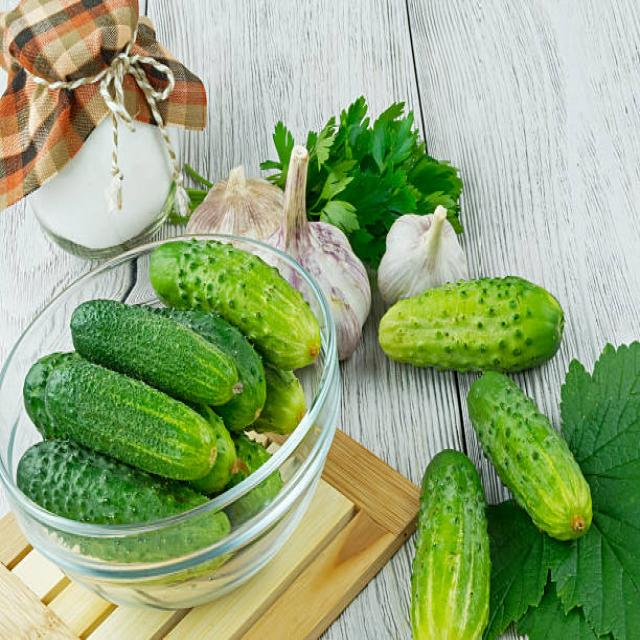cucumber: (15, 440, 228, 548), (146, 239, 324, 368), (464, 372, 594, 538), (45, 356, 214, 480), (376, 274, 566, 374), (68, 296, 238, 407), (412, 449, 488, 640)
